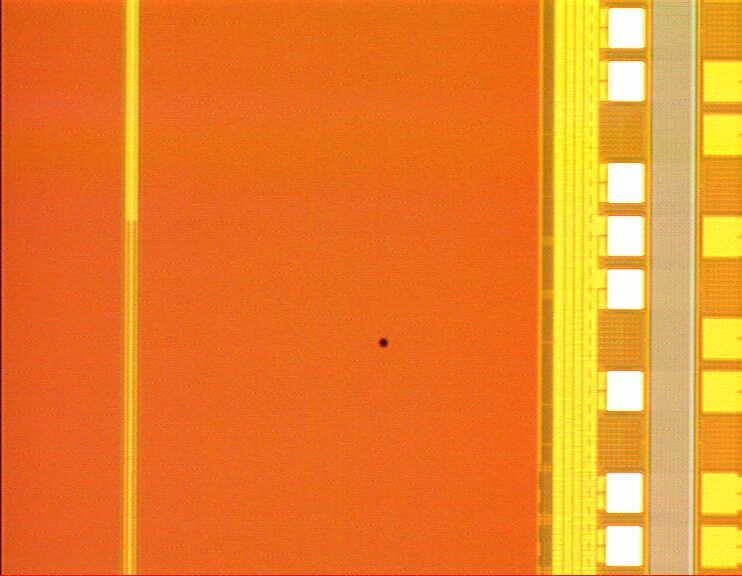PIQ PARTICLE: (374, 334, 397, 356)
